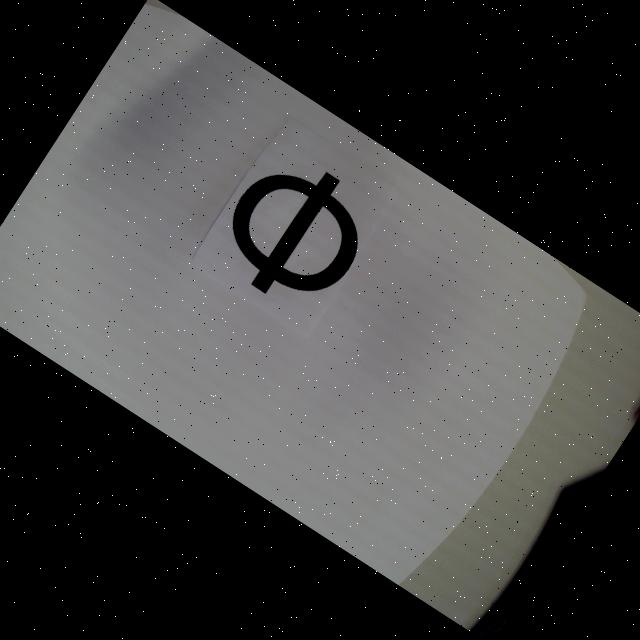PHI: (203, 138, 387, 326)
